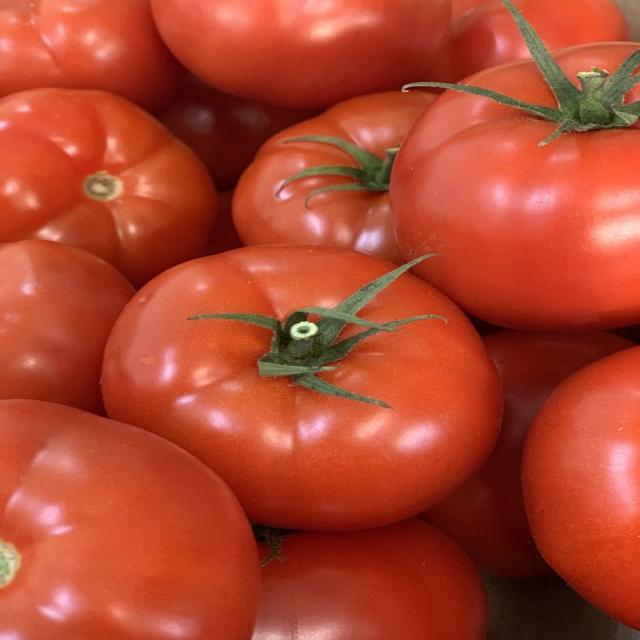tomato: (102, 246, 500, 529), (0, 400, 259, 639), (390, 91, 639, 330), (421, 331, 633, 577), (0, 89, 216, 286), (233, 91, 435, 263), (523, 348, 639, 628), (152, 0, 450, 108), (253, 519, 486, 639), (0, 240, 133, 412), (0, 0, 184, 110), (158, 75, 315, 189), (514, 0, 629, 50), (203, 190, 242, 255), (452, 0, 499, 25)
